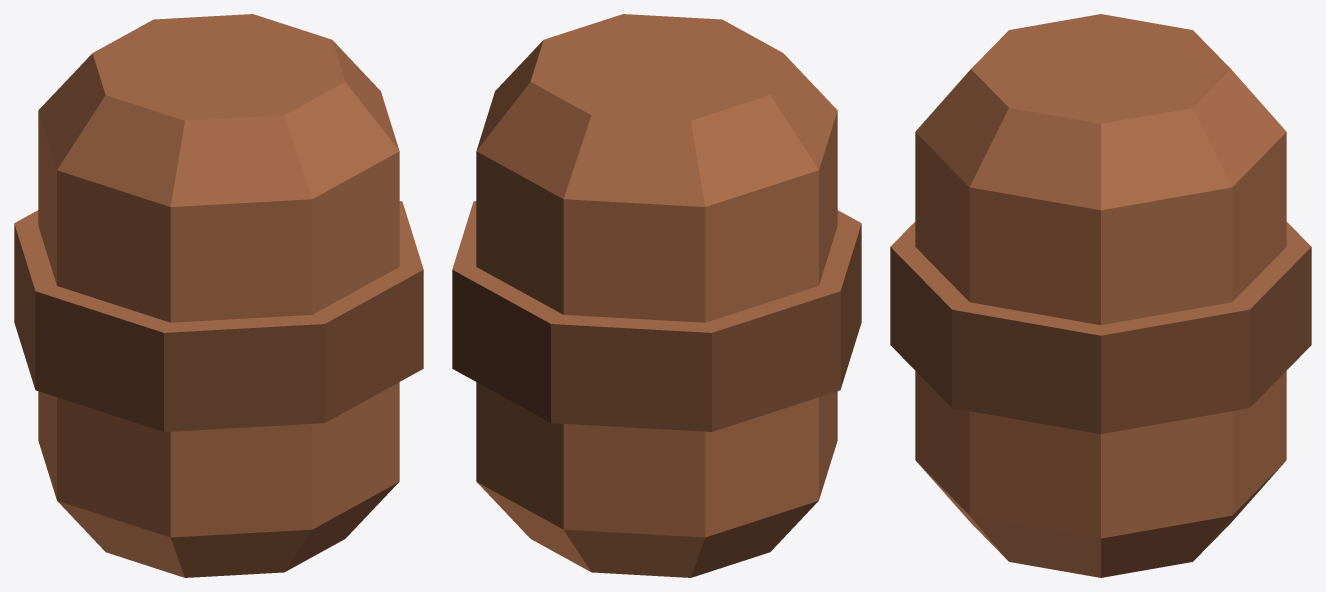
File: mutong.fbx
3 views of the same model, side by side, from view 1: azimuth 30°, elevation 25°; view 2: azimuth 150°, elevation 25°; view 3: azimuth 270°, elevation 25° (orthographic).
Visible parts, largest first — view 1: pasted__jiutong; view 2: pasted__jiutong; view 3: pasted__jiutong.
Boxes of the visible parts, left/top/right/bottom form: pasted__jiutong: left=14, top=14, right=423, bottom=577; pasted__jiutong: left=452, top=14, right=861, bottom=577; pasted__jiutong: left=890, top=14, right=1311, bottom=577.
Size of the model in its own units: 1.13 by 1.35 by 1.13.
